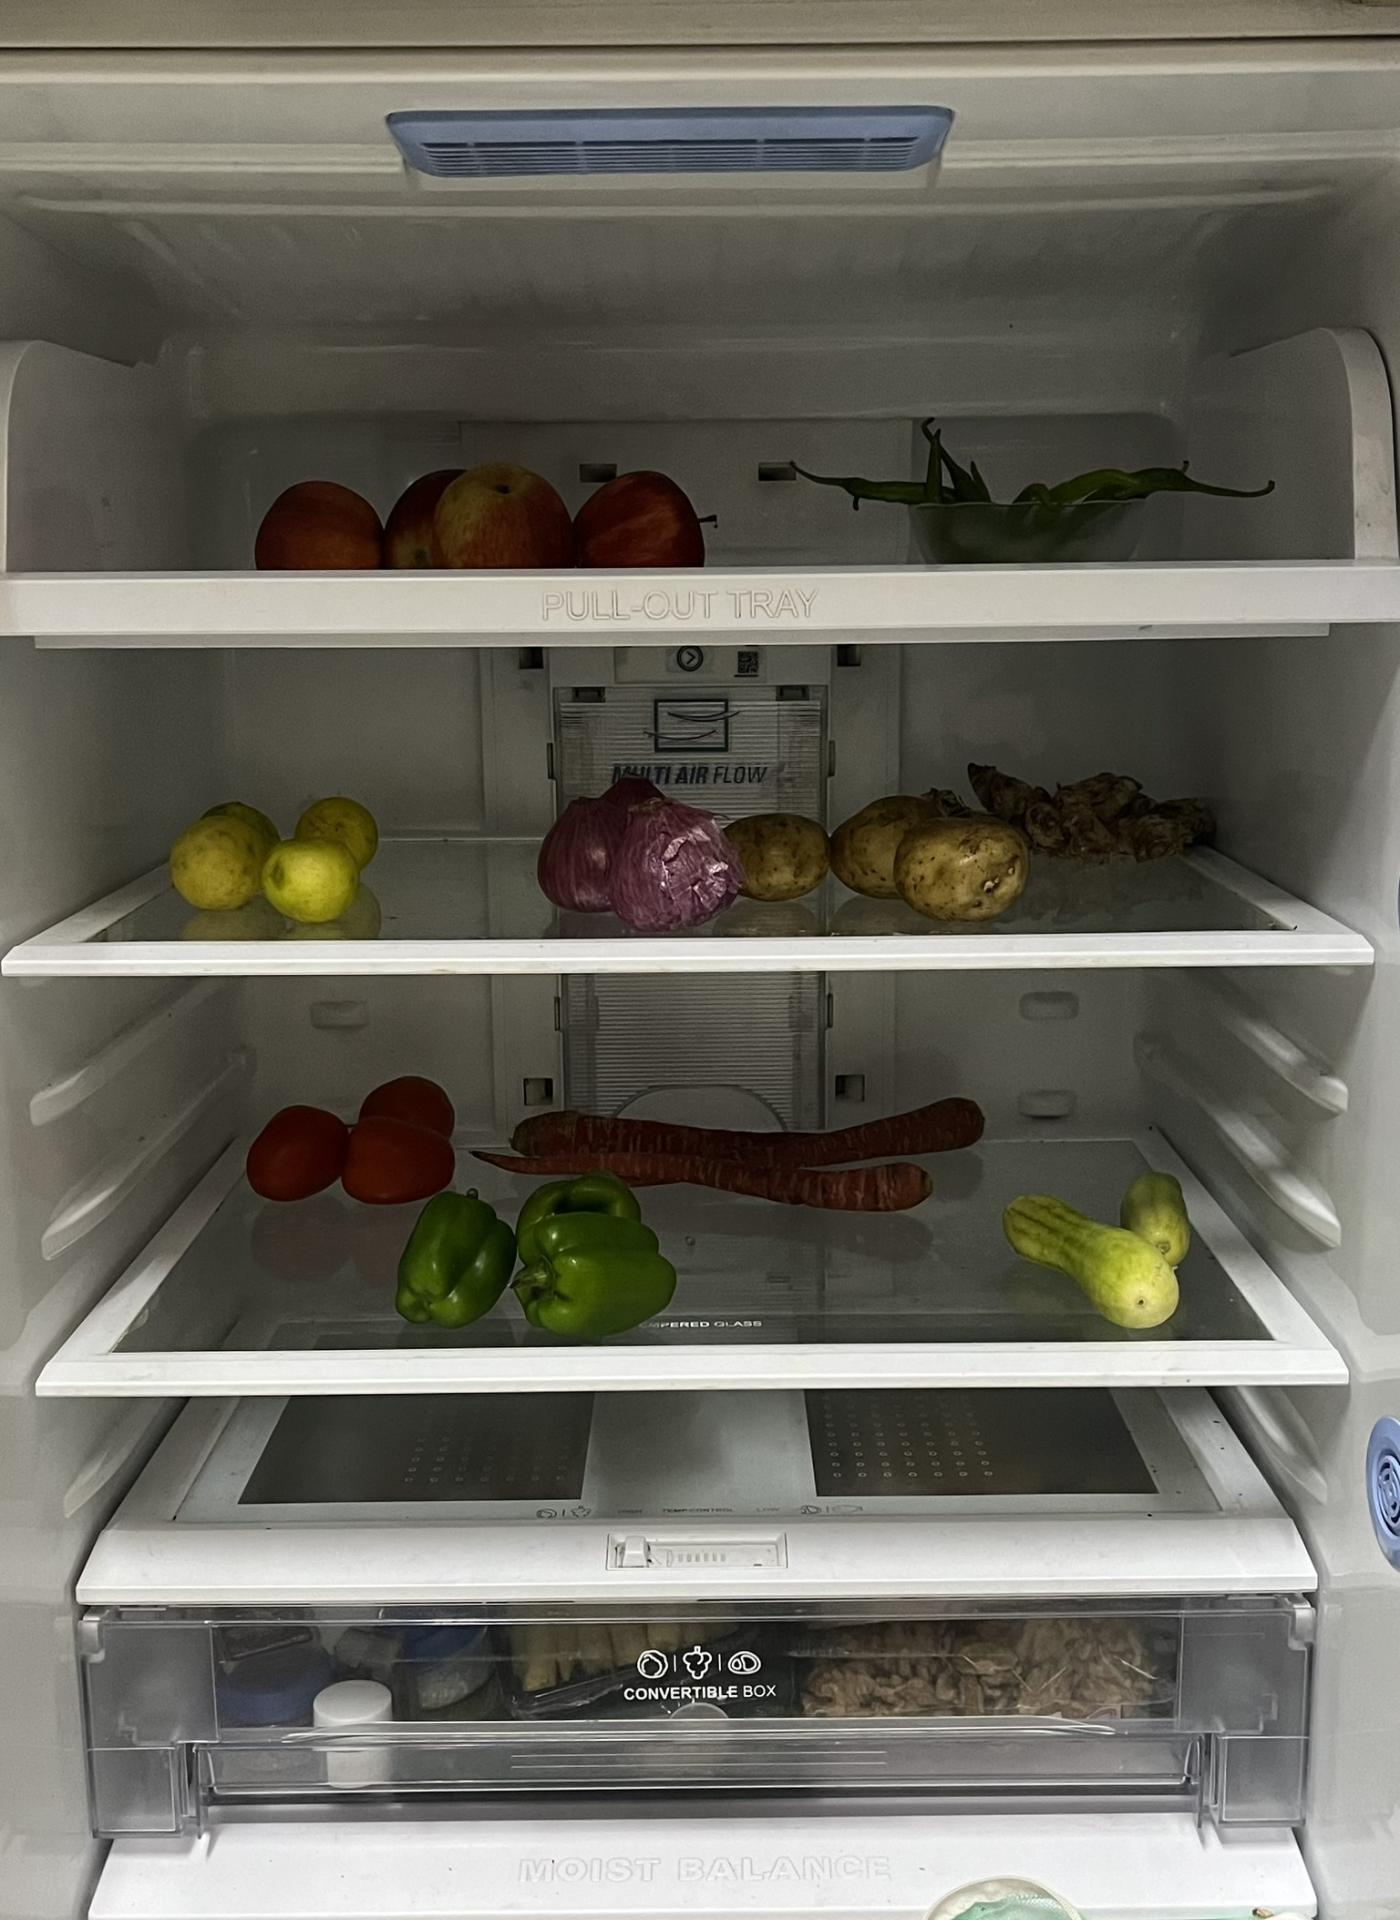apple: (240, 449, 704, 566)
capsicum: (514, 1179, 678, 1334), (397, 1182, 520, 1328)
carrots: (468, 1079, 980, 1210)
chillies: (798, 419, 1276, 558)
cucumber: (1000, 1178, 1194, 1333)
ginger: (978, 762, 1220, 863)
lemon: (168, 795, 385, 917)
onion: (543, 778, 734, 933)
potato: (731, 787, 1020, 921)
tomato: (245, 1070, 452, 1200)
